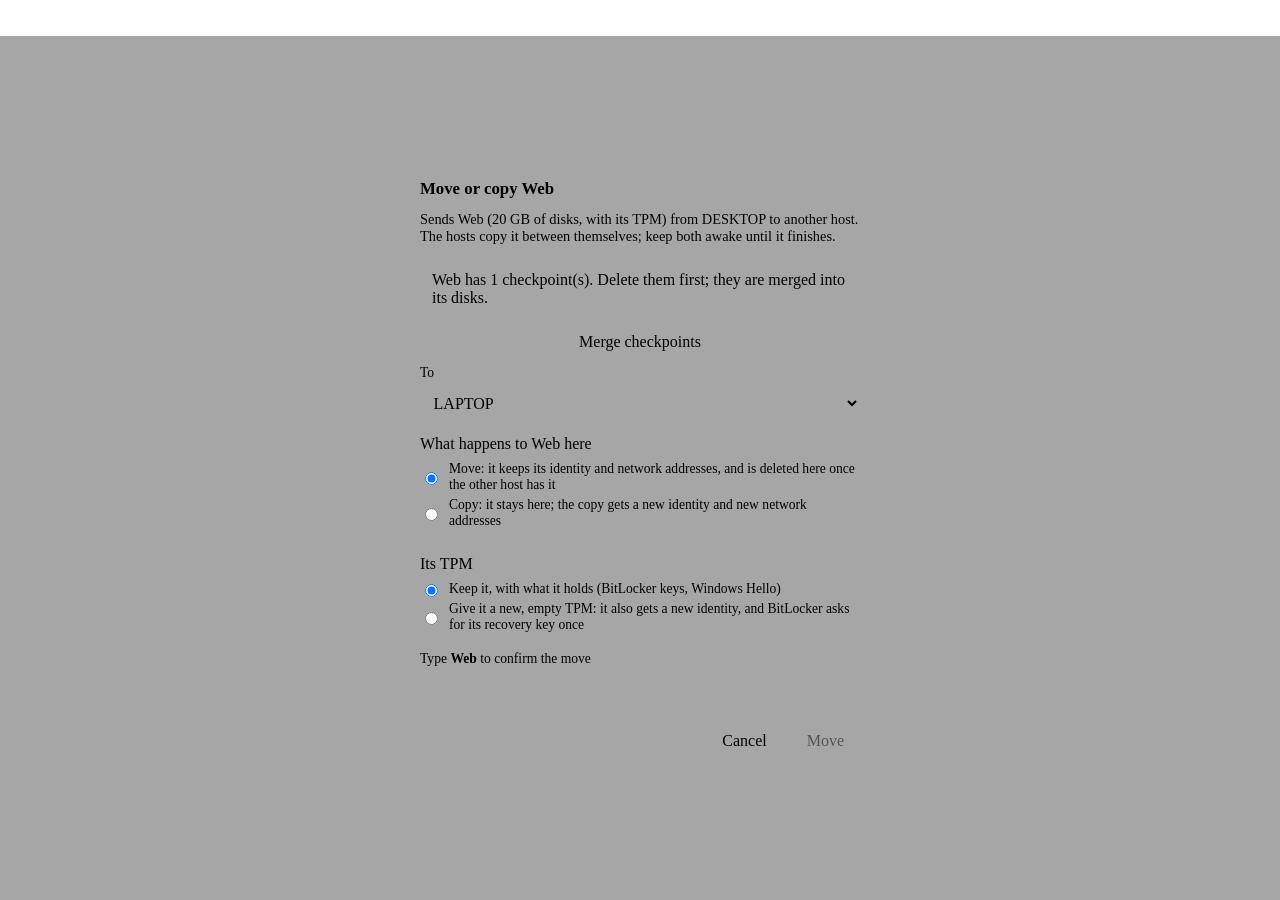
it: TransferVmDialog › merges checkpoints when they are all that is in the way, then checks the VM again
The width and height of the screenshot is (1280, 900).
Click the button "Merge checkpoints": coordinates (640, 342) [420, 326, 860, 358]
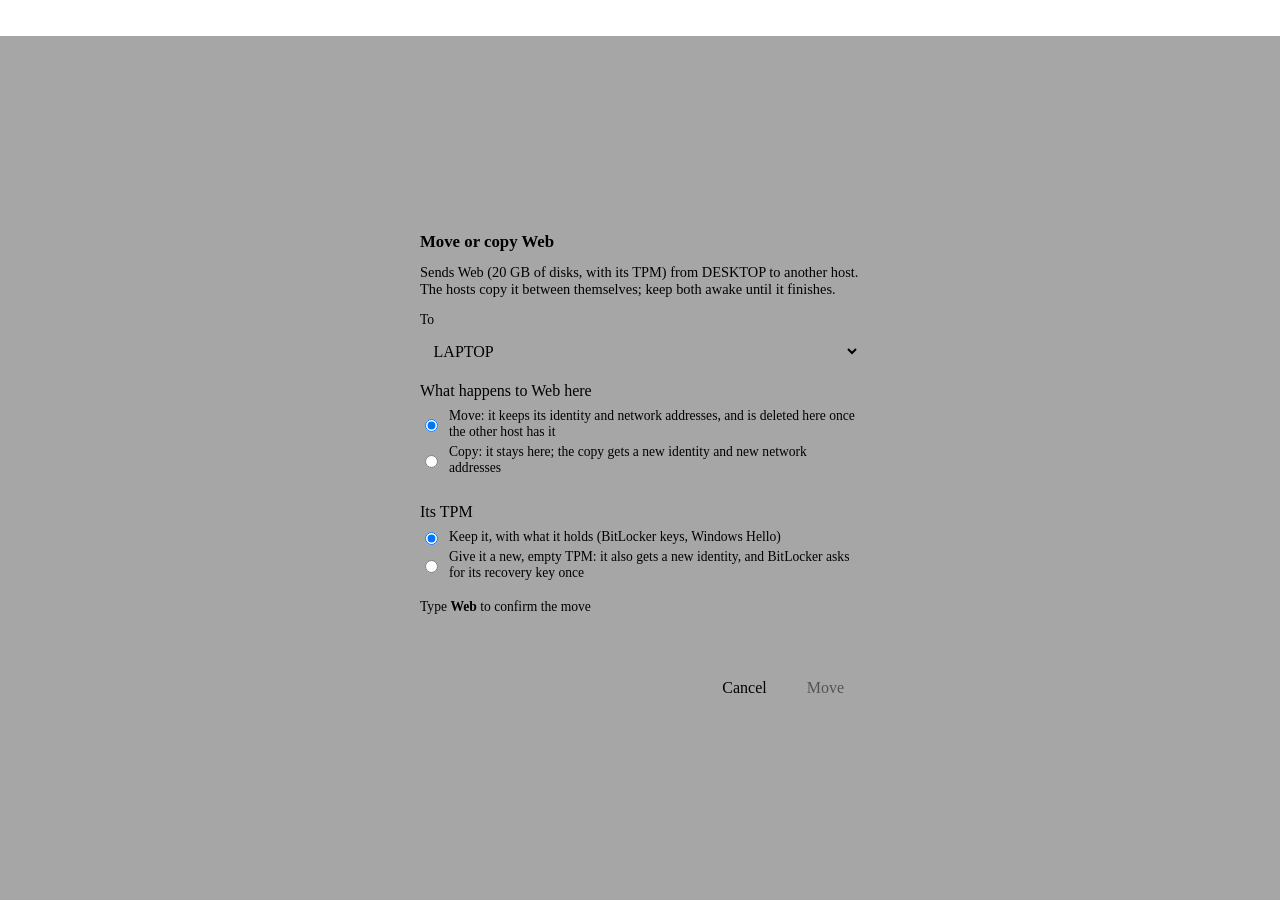
Check: the button "Merge checkpoints" is gone
